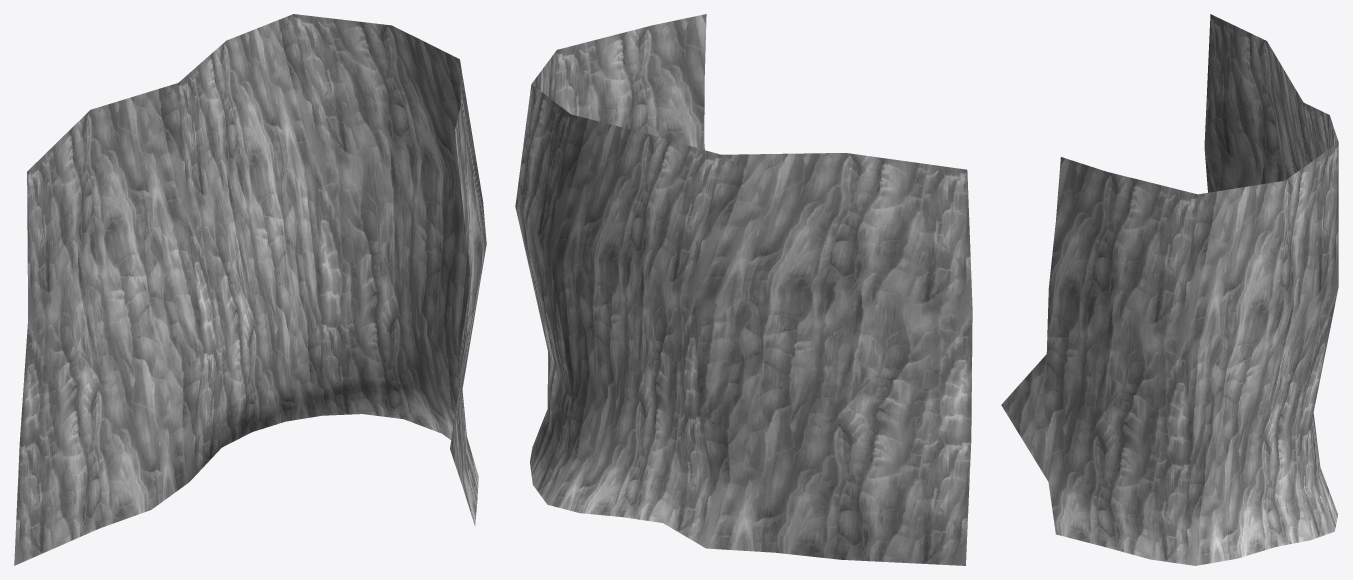
The model's file is SWORDLIGHT20_PS-AREA03_81.fbx.
3 views of the same model, side by side, from view 1: azimuth 30°, elevation 25°; view 2: azimuth 150°, elevation 25°; view 3: azimuth 270°, elevation 25° (orthographic). The views are drawn at different scales.
Visible parts, largest first — view 1: SWORDLIGHT20_PS-AREA03_81; view 2: SWORDLIGHT20_PS-AREA03_81; view 3: SWORDLIGHT20_PS-AREA03_81.
Boxes of the visible parts, x1,y1,x2,y2 form: SWORDLIGHT20_PS-AREA03_81: (14, 14, 486, 565); SWORDLIGHT20_PS-AREA03_81: (515, 14, 972, 565); SWORDLIGHT20_PS-AREA03_81: (1001, 14, 1338, 565).
Bounding box in the file's own units: 160291 × 146294 × 112500.
1 material, 1 textured.
